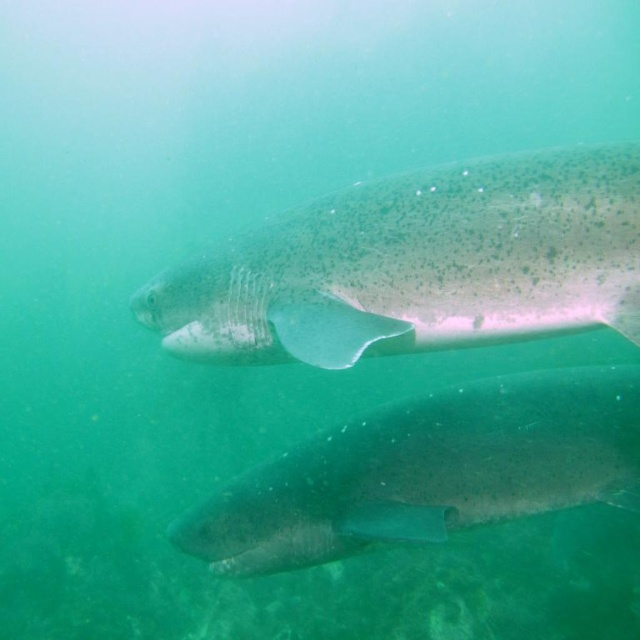Shark: (131, 142, 638, 371), (167, 377, 636, 579)
